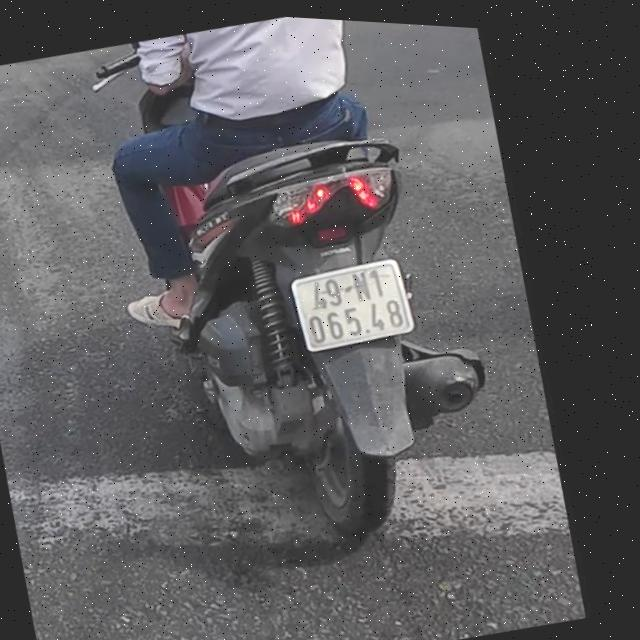motorcycle: (145, 101, 532, 581)
plate: (280, 241, 427, 364)
